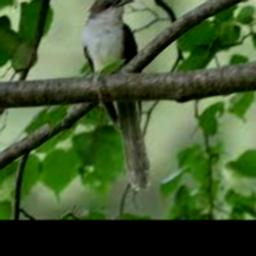Cuckoo: (82, 0, 149, 192)
